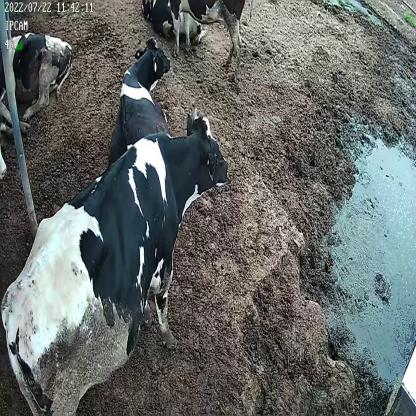cow: (0, 104, 229, 416), (107, 36, 172, 168)
